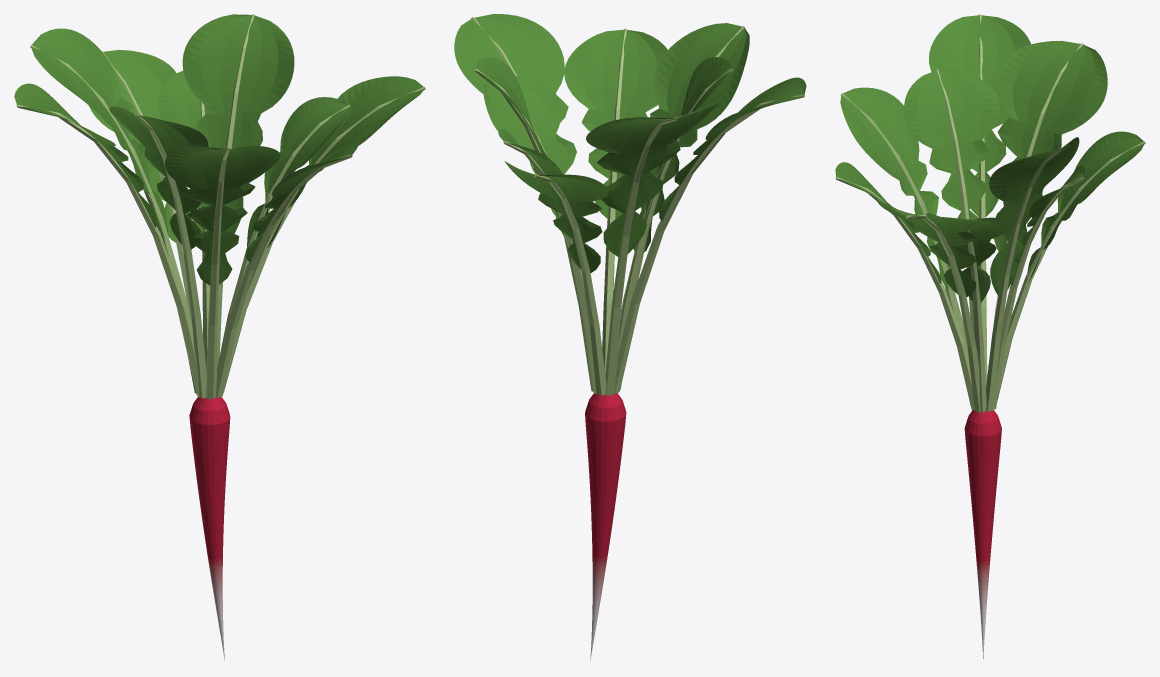
Rendered from radish_harvest_v07.glb.
3 renders of one model, left to right at view 1: azimuth 30°, elevation 25°; view 2: azimuth 150°, elevation 25°; view 3: azimuth 270°, elevation 25°, orthographic. The views are drawn at different scales.
Parts seen in each view (by area): view 1: plant; view 2: plant; view 3: plant.
Boxes of the visible parts, x1=… form: plant: x1=14, y1=14, x2=425, y2=660; plant: x1=454, y1=14, x2=806, y2=660; plant: x1=835, y1=14, x2=1145, y2=658.
Bounding box in the file's own units: 0.2566 × 0.4079 × 0.2055.
1 material, 1 textured.
